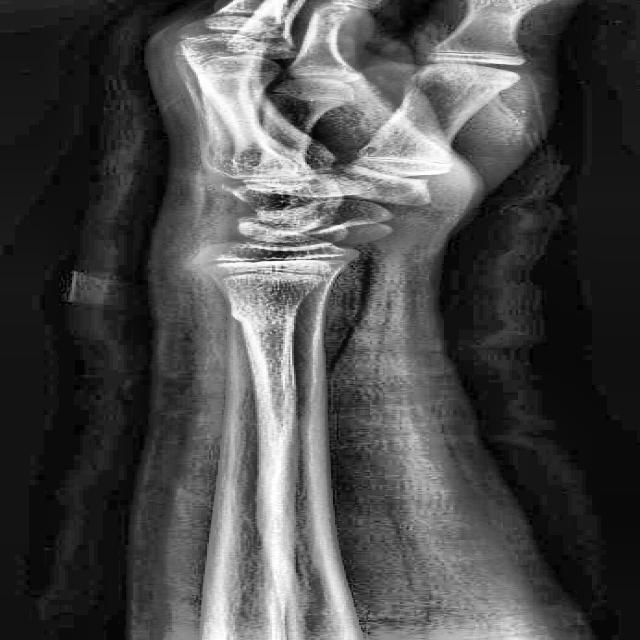line: (211, 269, 333, 283)
